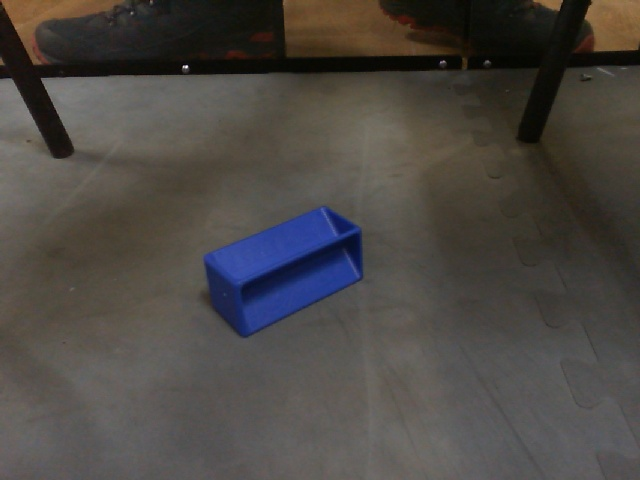BlueSample: (199, 205, 369, 340)
